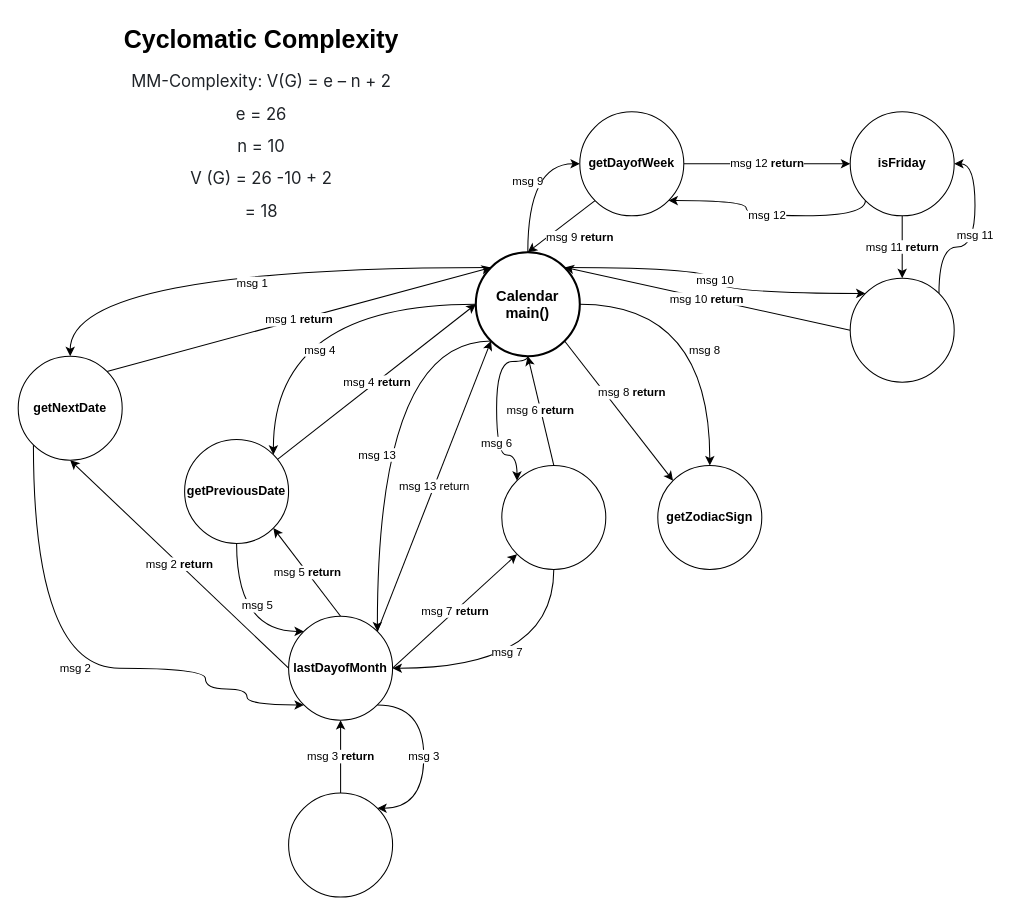
This 1011x915 diagram has some shape labels left out. Each missing label, with the centre of its shape:
"friday13th" goes at (901,329).
"isLeap" goes at (340,844).
"isValidDate" goes at (553,516).
